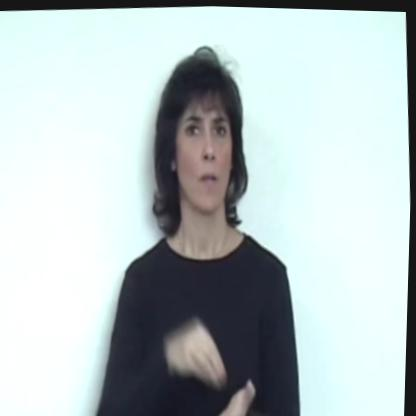Expensive: (157, 305, 273, 416)
